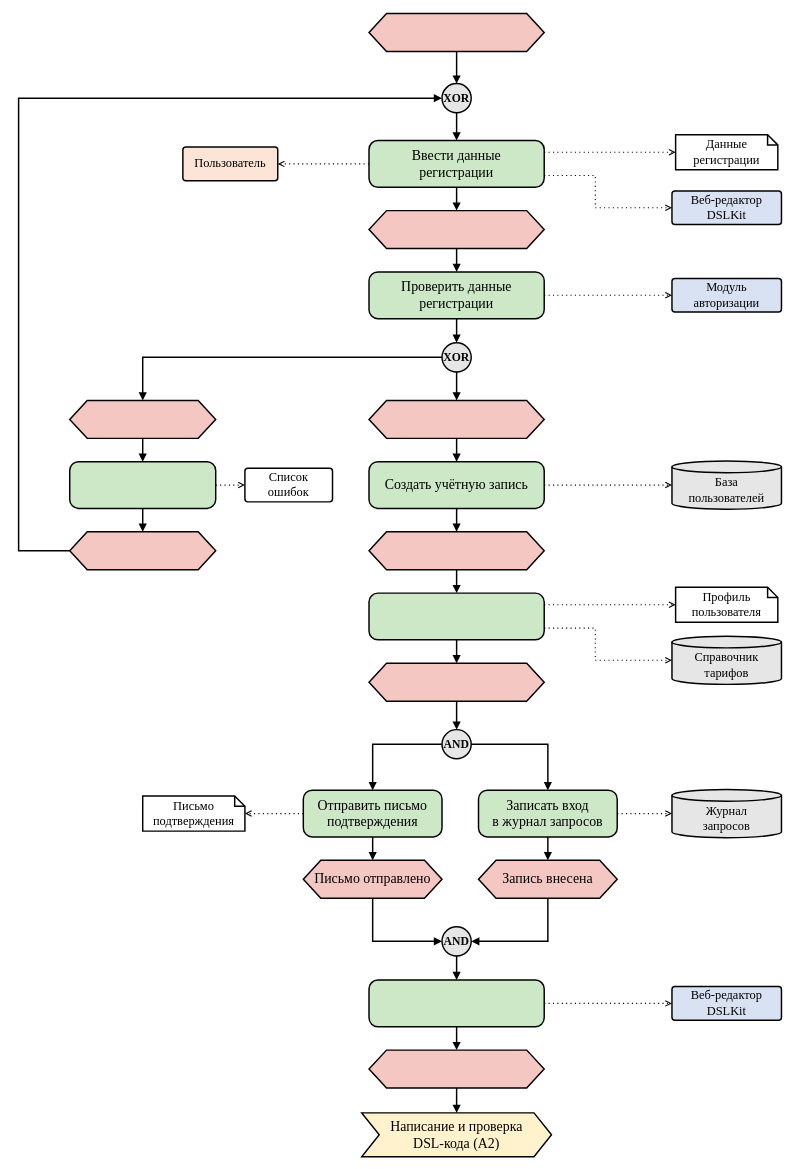
This 794x1169 diagram has some shape labels left out. Here are the shapes that lost their labels. From the top down, the centre of each, then its label:
At point 456,32: "Пользователь открыл форму регистрации".
At point 456,229: "Данные регистрации введены".
At point 142,419: "Данные некорректны".
At point 456,419: "Данные корректны".
At point 142,485: "Показать ошибки регистрации".
At point 142,550: "Ошибки показаны".
At point 456,550: "Учётная запись создана".
At point 456,616: "Назначить роль и тариф Free".
At point 456,682: "Роль и лимиты назначены".
At point 456,1003: "Открыть доступ к редактору".
At point 456,1068: "Доступ к редактору открыт".
